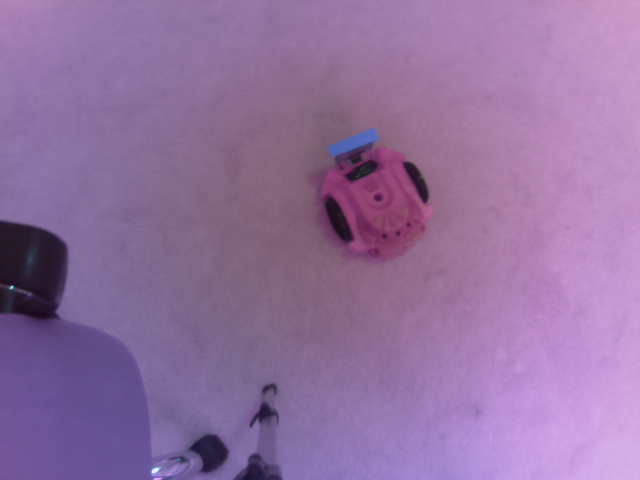board: (319, 127, 386, 165)
chassis: (319, 127, 437, 258)
